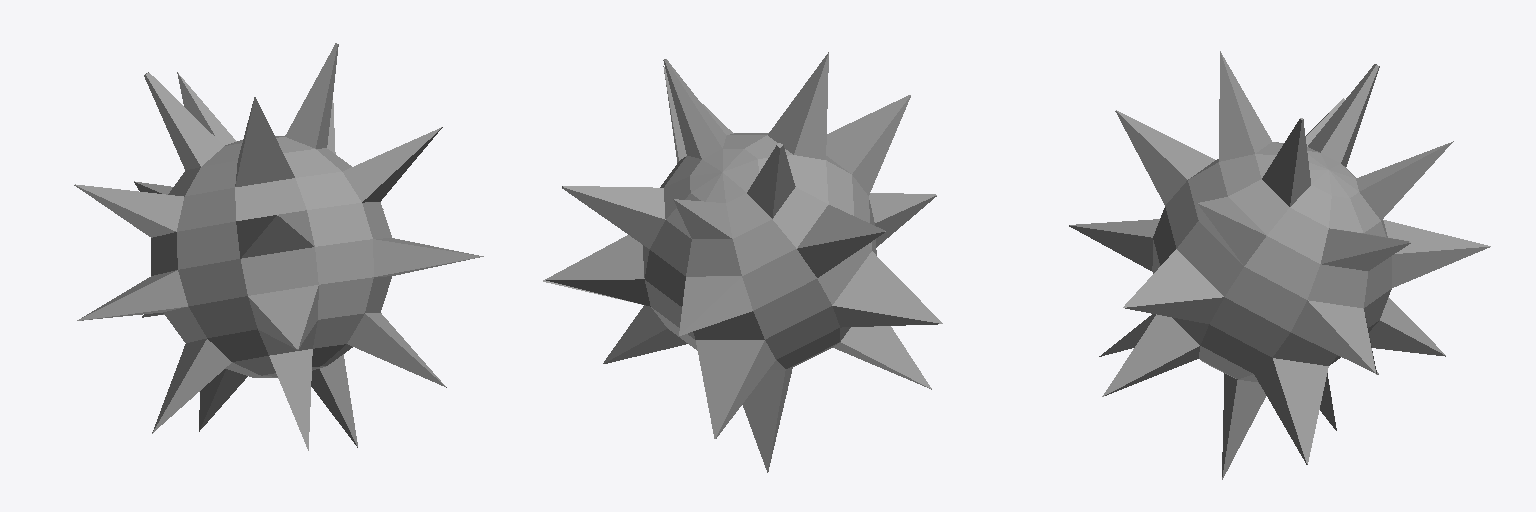
Rendered from mine.obj.
The picture shows the model from 3 angles: view 1: azimuth 30°, elevation 25°; view 2: azimuth 150°, elevation 25°; view 3: azimuth 270°, elevation 25°; orthographic projection.
Parts seen in each view (by area): view 1: Cube; view 2: Cube; view 3: Cube.
Boxes of the visible parts, x1=… form: Cube: x1=74, y1=43, x2=483, y2=450; Cube: x1=543, y1=52, x2=942, y2=472; Cube: x1=1069, y1=51, x2=1490, y2=479.
Bounding box in the file's own units: 3.34 × 3.42 × 3.45.